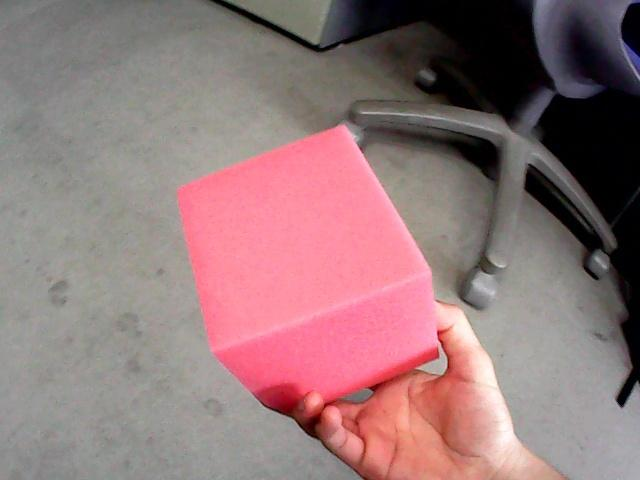red_block: (178, 127, 438, 412)
